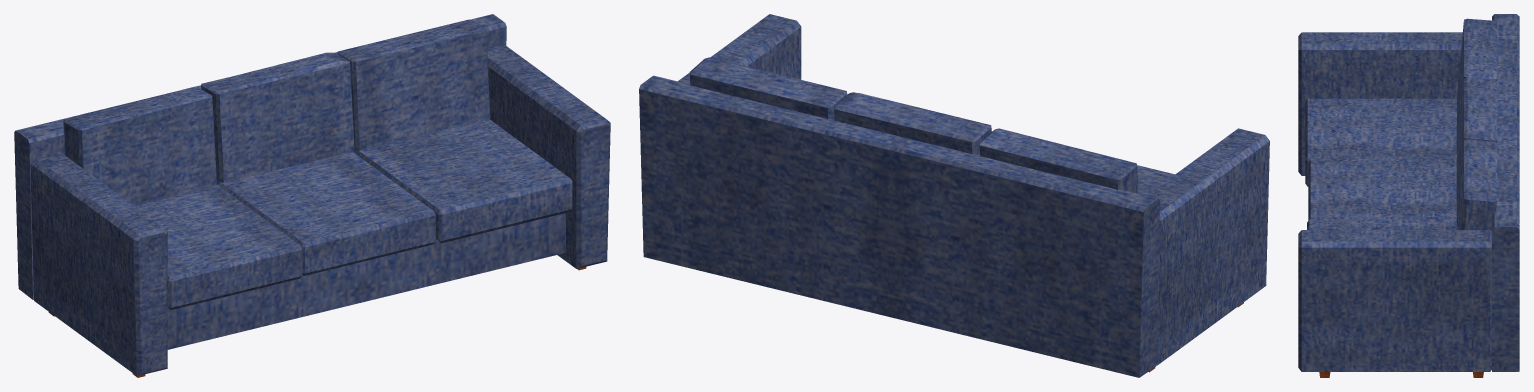
File: couch_large_blue.obj
The picture shows the model from 3 angles, left to right: view 1: azimuth 30°, elevation 25°; view 2: azimuth 150°, elevation 25°; view 3: azimuth 270°, elevation 25°; orthographic projection. The views are drawn at different scales.
Visible parts, largest first — view 1: couch_large_blue; view 2: couch_large_blue; view 3: couch_large_blue.
Boxes of the visible parts, x1,y1,x2,y2 form: couch_large_blue: (14, 14, 610, 377); couch_large_blue: (639, 14, 1269, 377); couch_large_blue: (1298, 14, 1519, 377).
Size of the model in its own units: 3.16 by 1.19 by 1.39.
